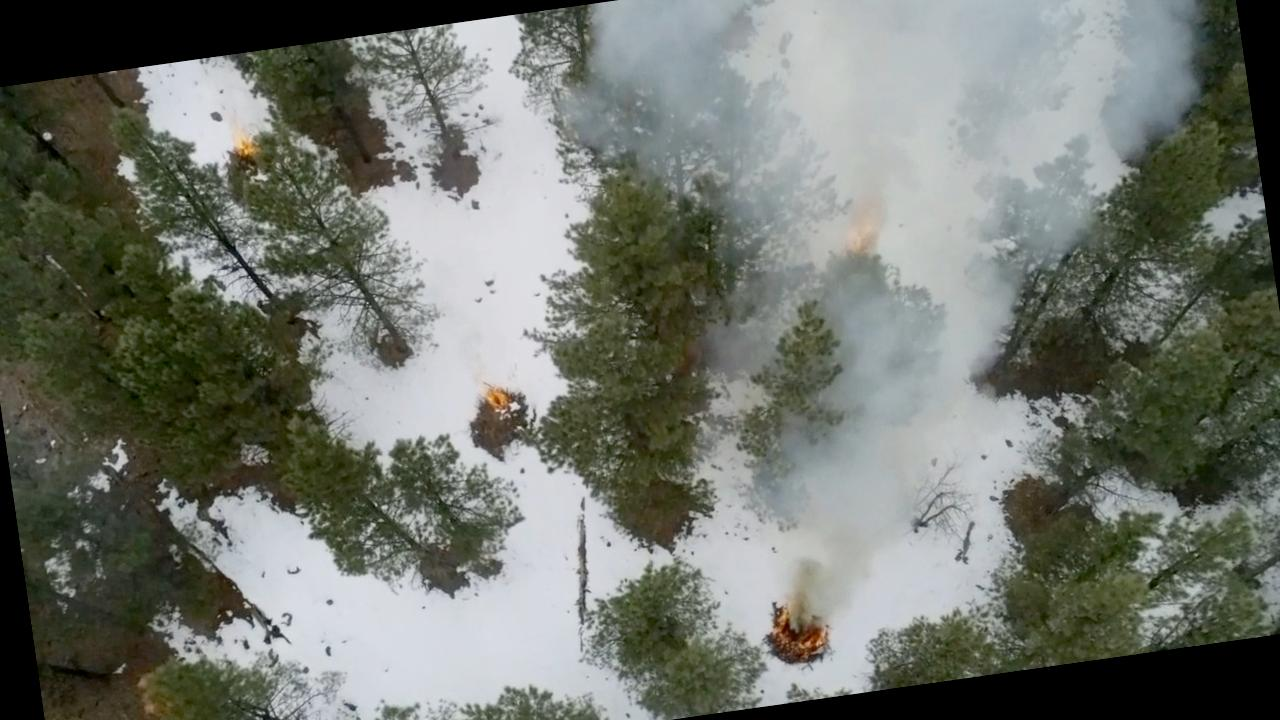fire: (758, 567, 848, 660), (472, 355, 515, 410)
smoke: (766, 0, 1199, 308), (744, 294, 988, 510), (572, 0, 796, 221)
